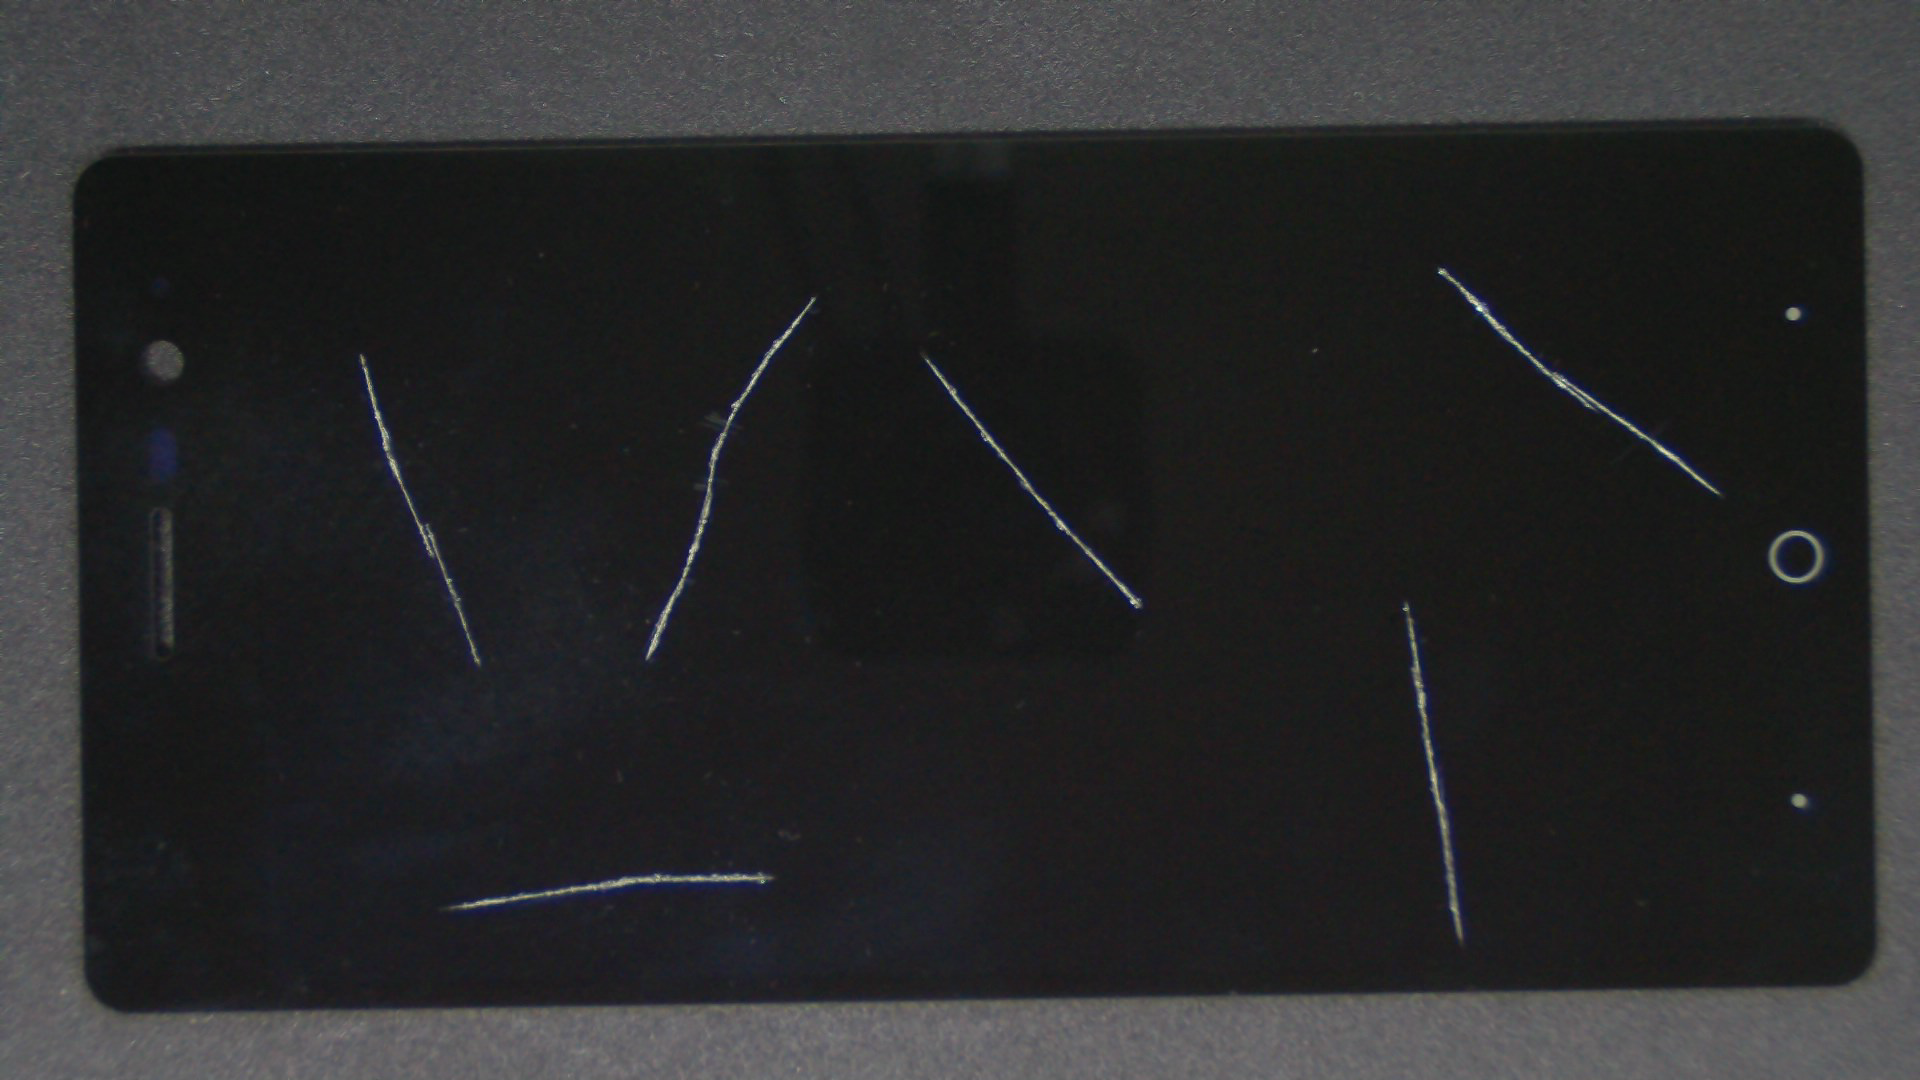defect: (1436, 266, 1724, 498), (644, 295, 816, 663), (920, 352, 1145, 611), (357, 352, 483, 671), (1400, 600, 1465, 947), (436, 870, 775, 913)
